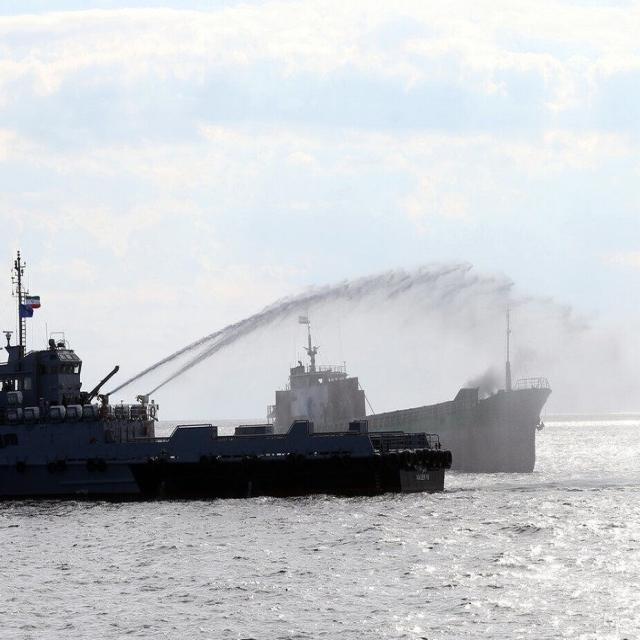navalvessels: (0, 262, 487, 494)
